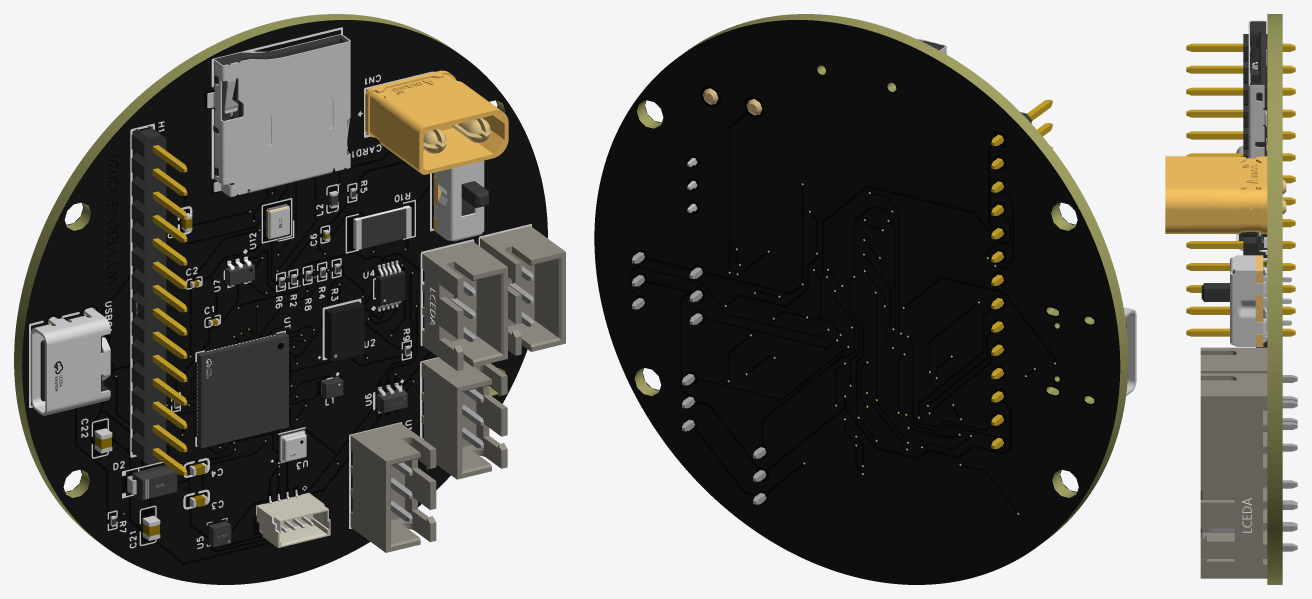
The model's file is 3D_PCB1_2026-08-09.obj.
3 renders of one model, left to right at view 1: azimuth 30°, elevation 25°; view 2: azimuth 150°, elevation 25°; view 3: azimuth 270°, elevation 25°, orthographic. The views are drawn at different scales.
Bounding box in the file's own units: 59.97 × 59.97 × 13.9.
